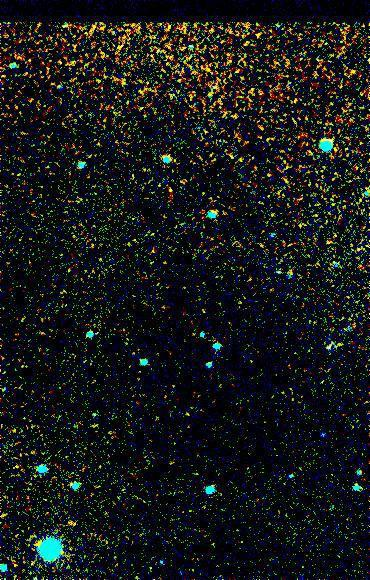star: (20, 447, 50, 477)
